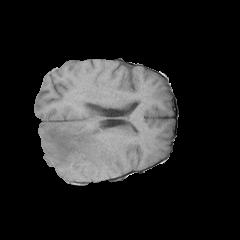glioma: (38, 123, 121, 180)
